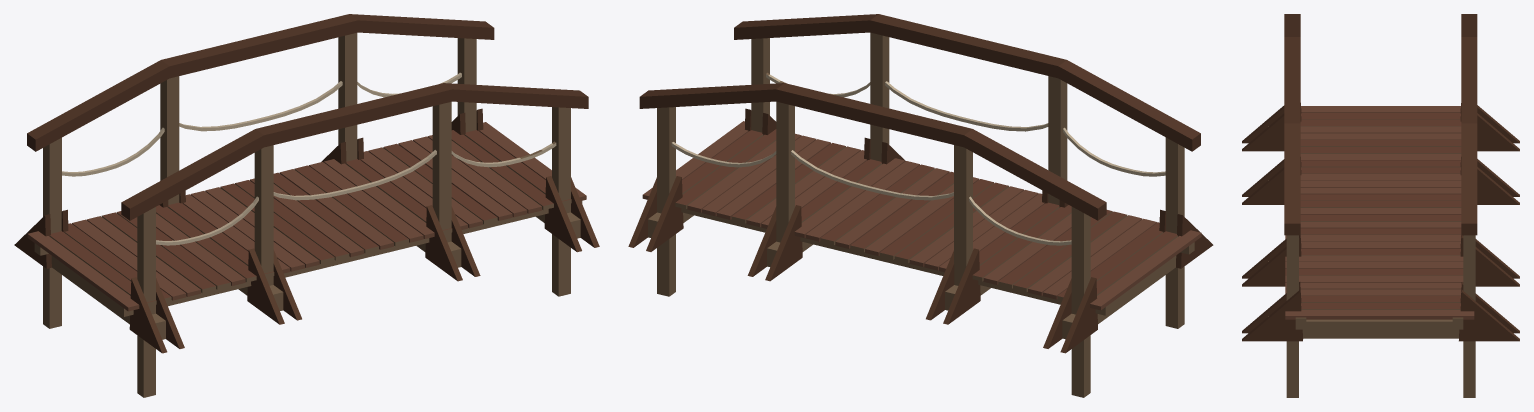
The model's file is Wooden_Bridge_(Low_Poly).fbx.
3 renders of one model, left to right at view 1: azimuth 30°, elevation 25°; view 2: azimuth 150°, elevation 25°; view 3: azimuth 270°, elevation 25°, orthographic. The views are drawn at different scales.
Visible parts, largest first — view 1: Cube_011_2, Cube_011_0, Cube_011_4, Cube_011_1, Cube_011_3; view 2: Cube_011_2, Cube_011_0, Cube_011_4, Cube_011_1, Cube_011_3; view 3: Cube_011_4, Cube_011_2, Cube_011_1, Cube_011_0.
Boxes of the visible parts, <box> form: Cube_011_2: <box>14,14,599,353</box>; Cube_011_0: <box>34,33,582,397</box>; Cube_011_4: <box>27,122,586,311</box>; Cube_011_1: <box>50,130,570,302</box>; Cube_011_3: <box>62,72,556,245</box>; Cube_011_2: <box>628,14,1213,353</box>; Cube_011_0: <box>648,32,1194,397</box>; Cube_011_4: <box>642,121,1201,310</box>; Cube_011_1: <box>676,129,1177,297</box>; Cube_011_3: <box>671,74,1165,245</box>; Cube_011_4: <box>1285,106,1474,319</box>; Cube_011_2: <box>1242,14,1519,341</box>; Cube_011_1: <box>1285,113,1463,308</box>; Cube_011_0: <box>1268,119,1475,397</box>.
Size of the model in its own units: 1207 by 588 by 673.
